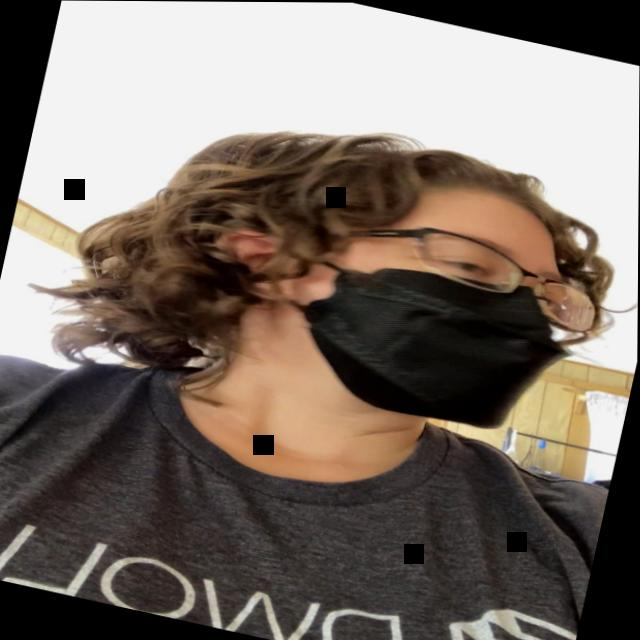Mask: (249, 151, 598, 446)
